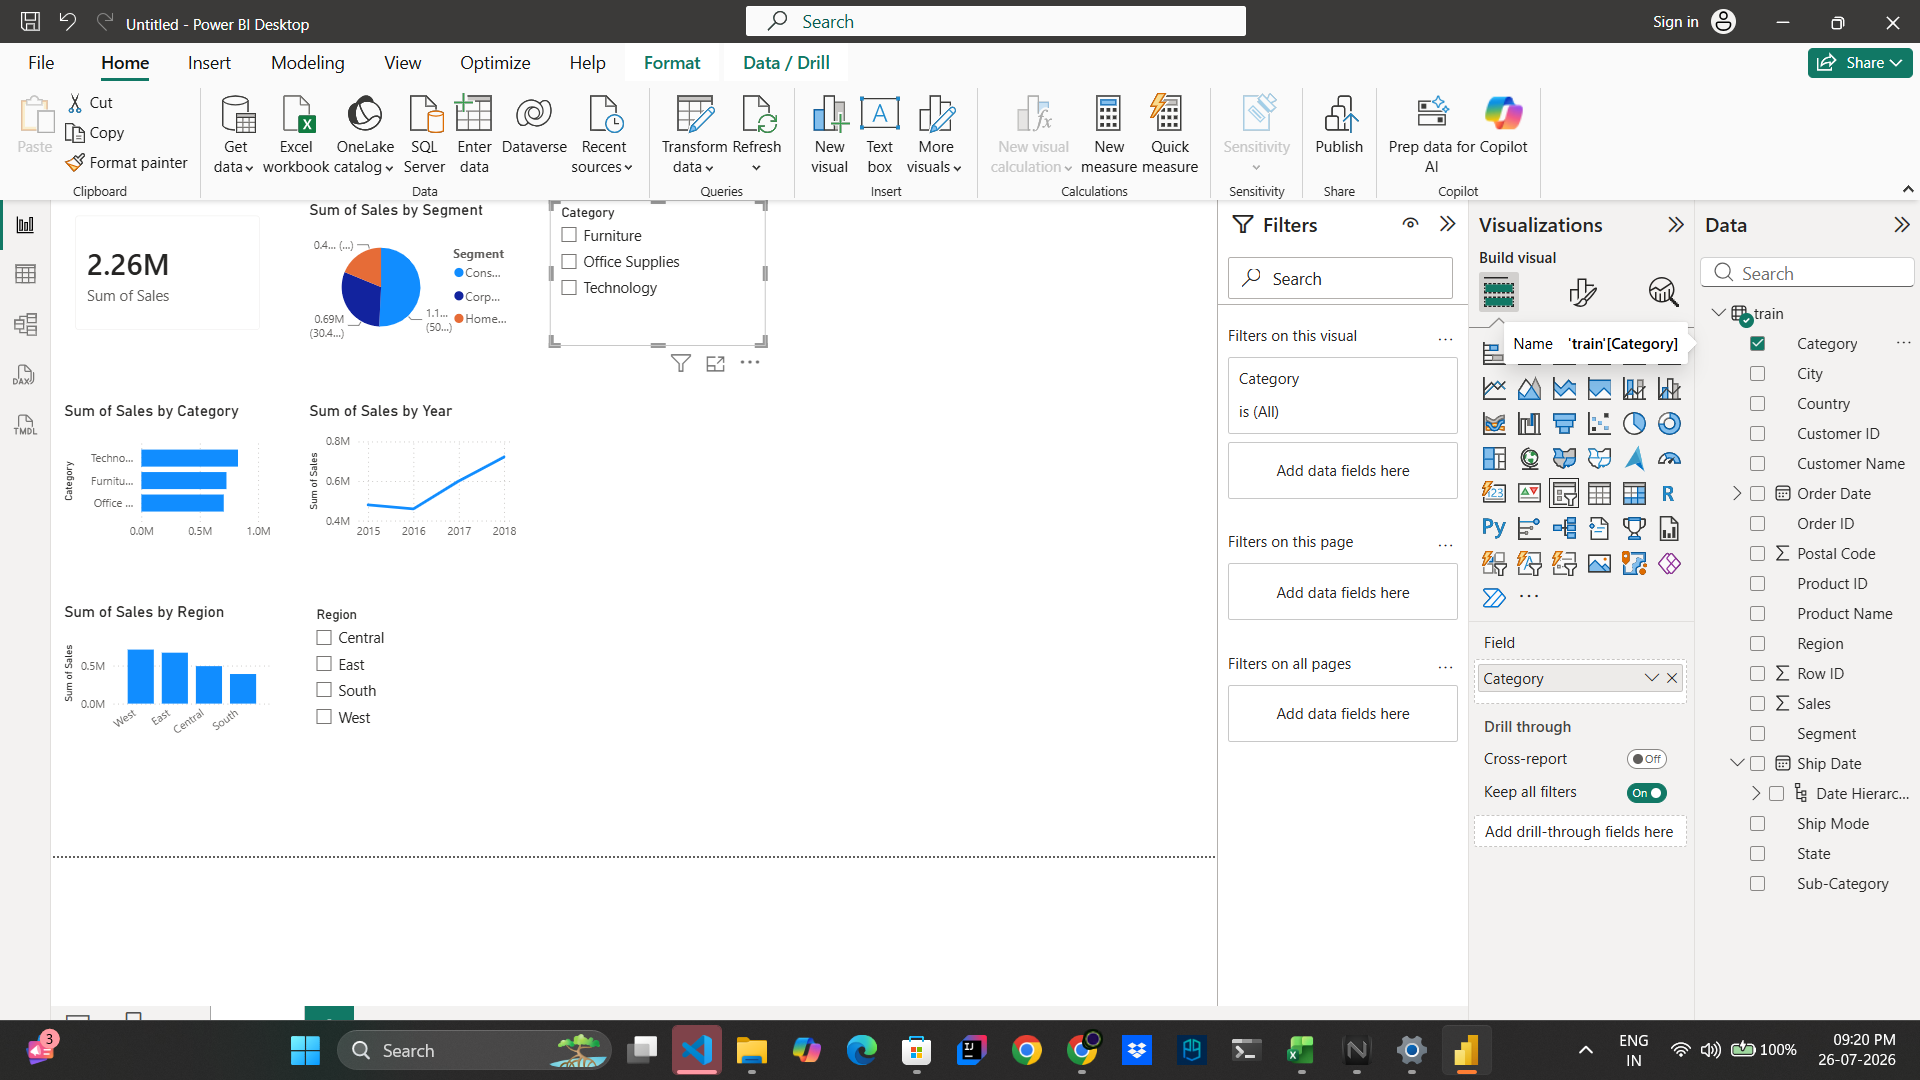

This screenshot's page, from the dashboard's own definition file:
{"tool":"powerbi","page":{"name":"Page 1","canvas":[1280,720],"ordinal":0},"visuals":[{"type":"cardVisual","fields":{"Data":["Sum(train.Sales)"]},"box":[9.6,0,281.3,220.9],"z":0},{"type":"clusteredBarChart","fields":{"Category":["train.Category"],"Y":["Sum(train.Sales)"]},"box":[0,255.2,516,160.5],"z":1000},{"type":"clusteredColumnChart","fields":{"Category":["train.Region"],"Y":["Sum(train.Sales)"]},"box":[521.4,267.6,404.8,179.8],"z":2000},{"type":"pieChart","fields":{"Category":["train.Segment"],"Y":["Sum(train.Sales)"]},"box":[0,428.1,516,292.3],"z":3000},{"type":"lineChart","fields":{"Category":["train.Order Date.Variation.Date Hierarchy.Year","train.Order Date.Variation.Date Hierarchy.Quarter","train.Order Date.Variation.Date Hierarchy.Month","train.Order Date.Variation.Date Hierarchy.Day"],"Y":["Sum(train.Sales)"]},"box":[617.5,509.1,237,161],"z":4000},{"type":"slicer","fields":{"Values":["train.Region"]},"box":[926.2,0,354,220.9],"z":5000},{"type":"slicer","fields":{"Values":["train.Category"]},"box":[516,12.3,410.3,208.6],"z":6000}]}

Visuals, with their boxes on the page's 1280x720 design canvas (x1, y1, x2, y2). These are canvas units, not pixel positions in the 1920x1080 screenshot, which may show the page scaled, cropped or inside an application window:
cardVisual - Sum(train.Sales): {"x1": 10, "y1": 0, "x2": 291, "y2": 221}
clusteredBarChart - train.Category x Sum(train.Sales): {"x1": 0, "y1": 255, "x2": 516, "y2": 416}
clusteredColumnChart - train.Region x Sum(train.Sales): {"x1": 521, "y1": 268, "x2": 926, "y2": 447}
pieChart - train.Segment x Sum(train.Sales): {"x1": 0, "y1": 428, "x2": 516, "y2": 720}
lineChart - train.Order Date.Variation.Date Hierarchy.Year x train.Order Date.Variation.Date Hierarchy.Quarter: {"x1": 618, "y1": 509, "x2": 854, "y2": 670}
slicer - train.Region: {"x1": 926, "y1": 0, "x2": 1280, "y2": 221}
slicer - train.Category: {"x1": 516, "y1": 12, "x2": 926, "y2": 221}
